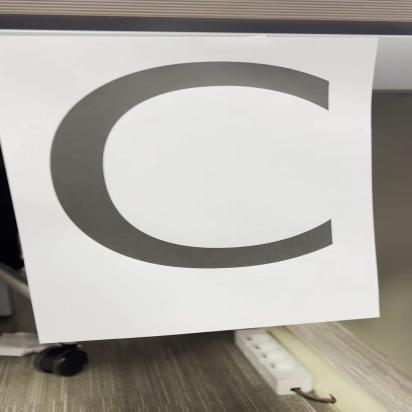seat: (0, 30, 383, 337)
